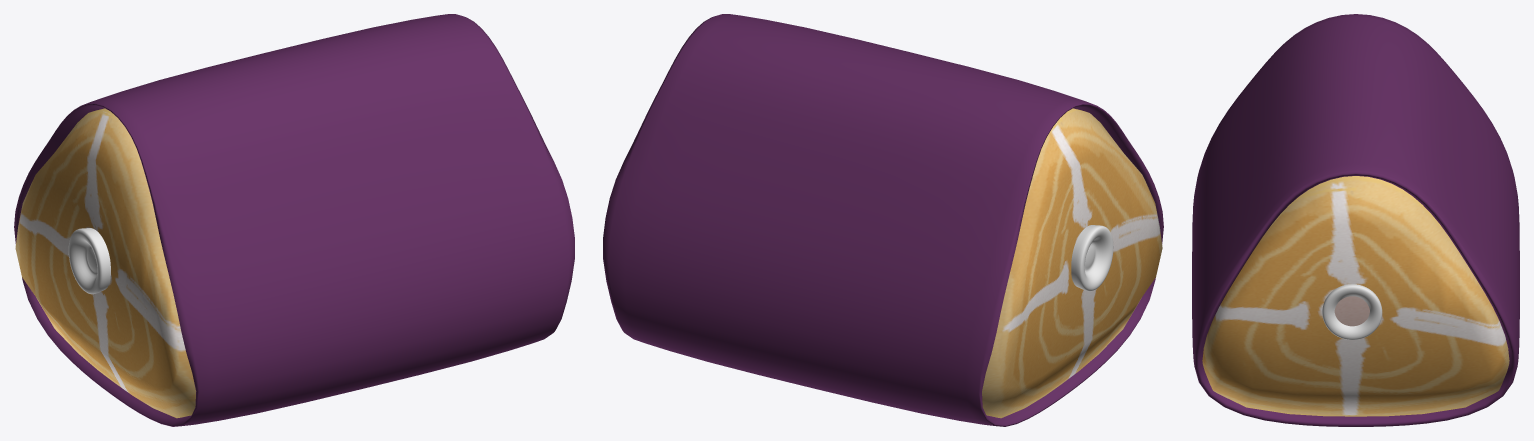
Rendered from fish.fbx.
3 renders of one model, left to right at view 1: azimuth 30°, elevation 25°; view 2: azimuth 150°, elevation 25°; view 3: azimuth 270°, elevation 25°, orthographic. The views are drawn at different scales.
Visible parts, largest first — view 1: fillet skin, fish, bone; view 2: fillet skin, fish, bone; view 3: fillet skin, fish, bone.
Boxes of the visible parts, x1=… form: fillet skin: x1=14, y1=14, x2=574, y2=426; fish: x1=15, y1=108, x2=196, y2=418; bone: x1=68, y1=228, x2=110, y2=294; fillet skin: x1=603, y1=14, x2=1163, y2=426; fish: x1=982, y1=108, x2=1162, y2=418; bone: x1=1071, y1=225, x2=1113, y2=291; fillet skin: x1=1192, y1=14, x2=1519, y2=426; fish: x1=1202, y1=176, x2=1509, y2=416; bone: x1=1322, y1=284, x2=1382, y2=339.
Bounding box in the file's own units: 98.49 × 66.85 × 74.34.
